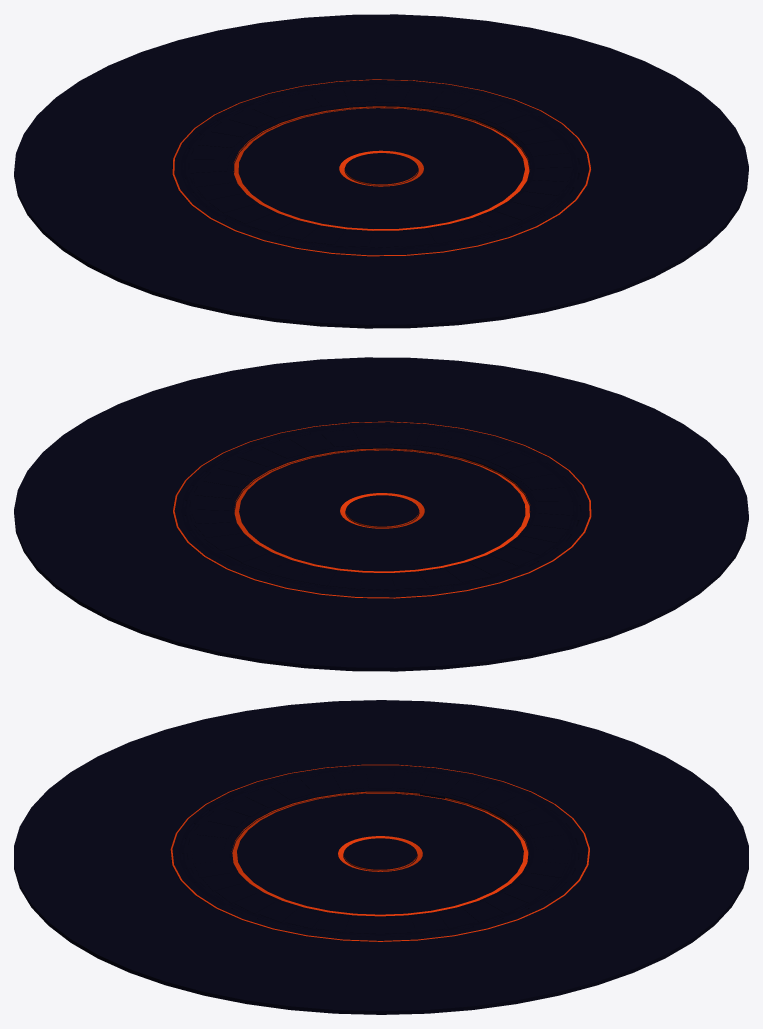
File: Floor.fbx
3 views of the same model, one above another, from view 1: azimuth 30°, elevation 25°; view 2: azimuth 150°, elevation 25°; view 3: azimuth 270°, elevation 25° (orthographic).
Visible parts, largest first — view 1: Floor, Floor_For_Stand; view 2: Floor, Floor_For_Stand; view 3: Floor, Floor_For_Stand.
Part boxes in pixels (bbox=[...]): Floor: bbox=[14, 14, 748, 328]; Floor_For_Stand: bbox=[172, 79, 591, 256]; Floor: bbox=[14, 357, 748, 671]; Floor_For_Stand: bbox=[172, 421, 591, 598]; Floor: bbox=[14, 700, 748, 1014]; Floor_For_Stand: bbox=[170, 764, 590, 942].
Size of the model in its own units: 54 by 0.5287 by 53.89.
